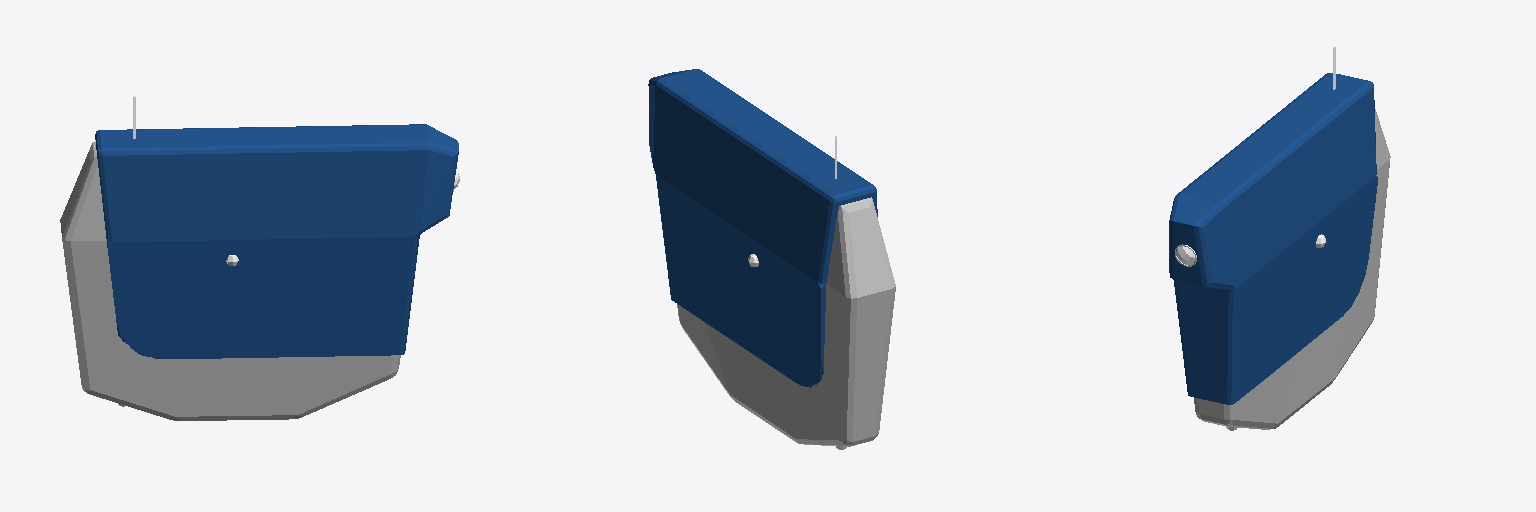
Rendered from drone.obj.
3 renders of one model, left to right at view 1: azimuth 30°, elevation 25°; view 2: azimuth 150°, elevation 25°; view 3: azimuth 270°, elevation 25°, orthographic.
Visible parts, largest first — view 1: blue, chrome_1; view 2: blue, chrome_1; view 3: blue, chrome_1.
Part boxes in pixels (x1,y1,x2,y2): blue: (95,124,458,358); chrome_1: (60,141,400,420); blue: (648,69,877,387); chrome_1: (677,197,895,446); blue: (1169,73,1377,404); chrome_1: (1194,109,1390,429).
Size of the model in its own units: 31.6 by 30.78 by 18.96.